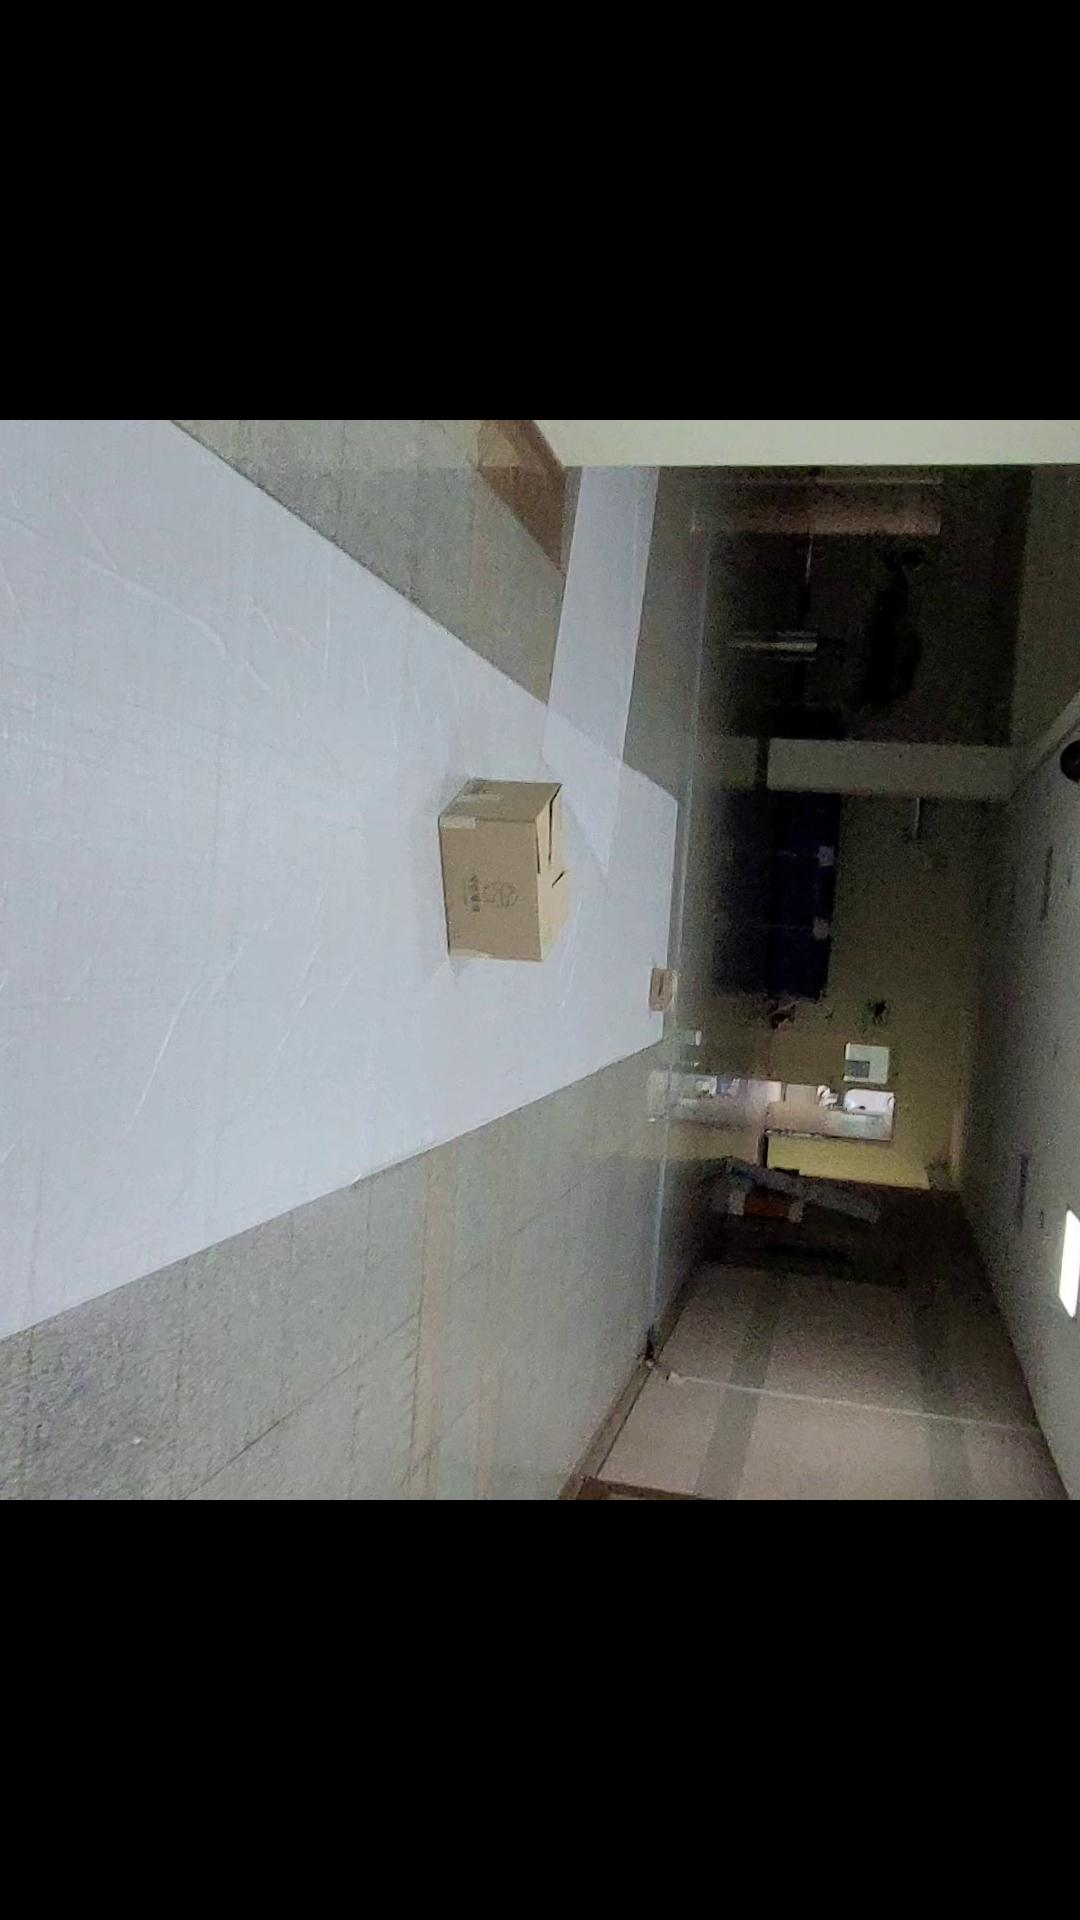Box: (430, 766, 587, 973), (625, 956, 690, 1030)
